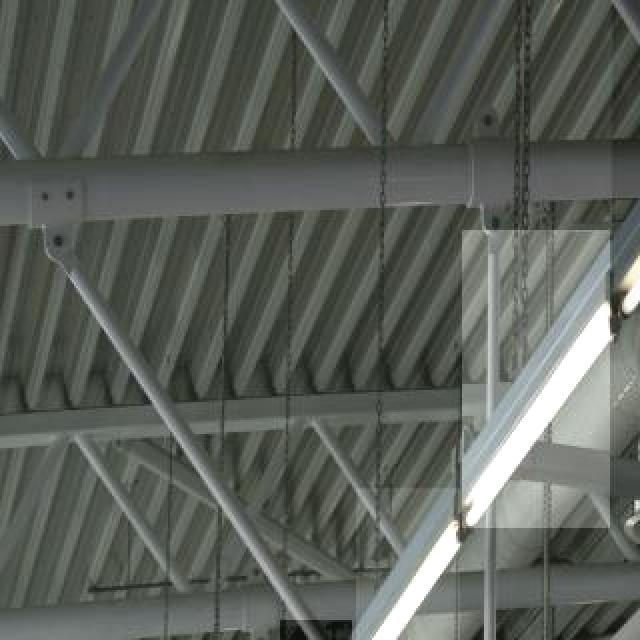fluorescent tube: (455, 302, 629, 534), (348, 504, 482, 640), (610, 0, 640, 322)
